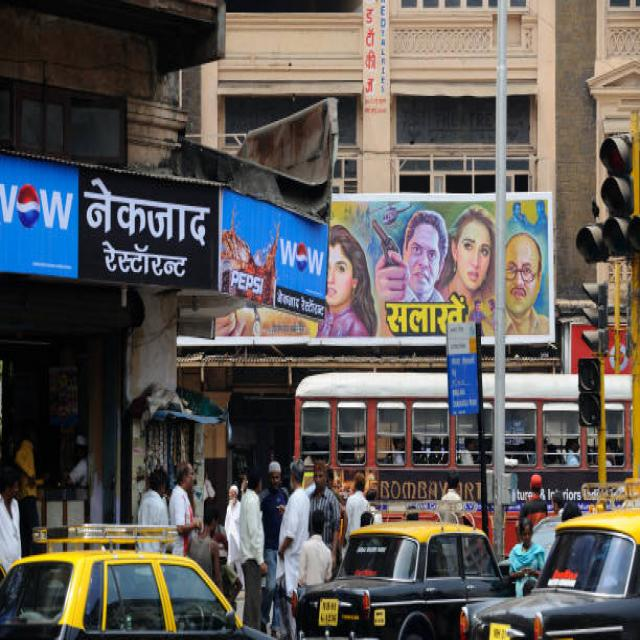Werbetafel frei: (194, 192, 552, 345)
